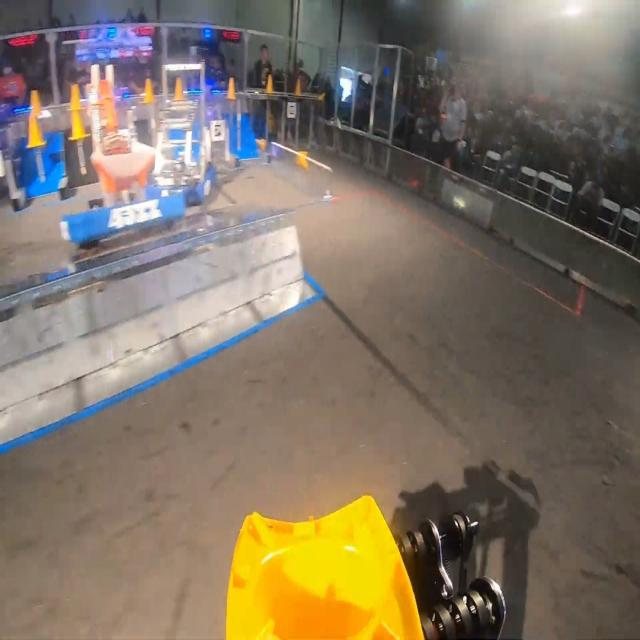robot: (59, 81, 185, 245), (148, 61, 217, 205)
